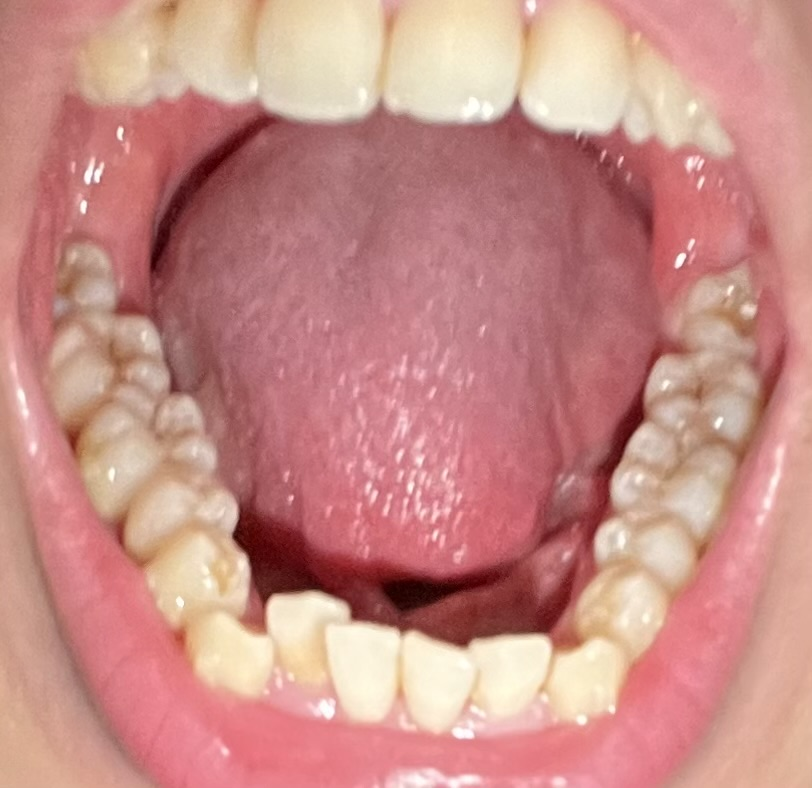teeth: (76, 399, 209, 517), (385, 5, 516, 111), (261, 4, 379, 118), (47, 318, 169, 425), (614, 425, 727, 536), (526, 11, 623, 134), (649, 351, 764, 446), (145, 534, 241, 627), (175, 2, 252, 102), (401, 634, 476, 734), (576, 573, 667, 655), (600, 515, 698, 587), (130, 489, 236, 555), (334, 630, 403, 726), (189, 617, 276, 689), (474, 640, 551, 717), (275, 599, 345, 680), (559, 645, 616, 722)
